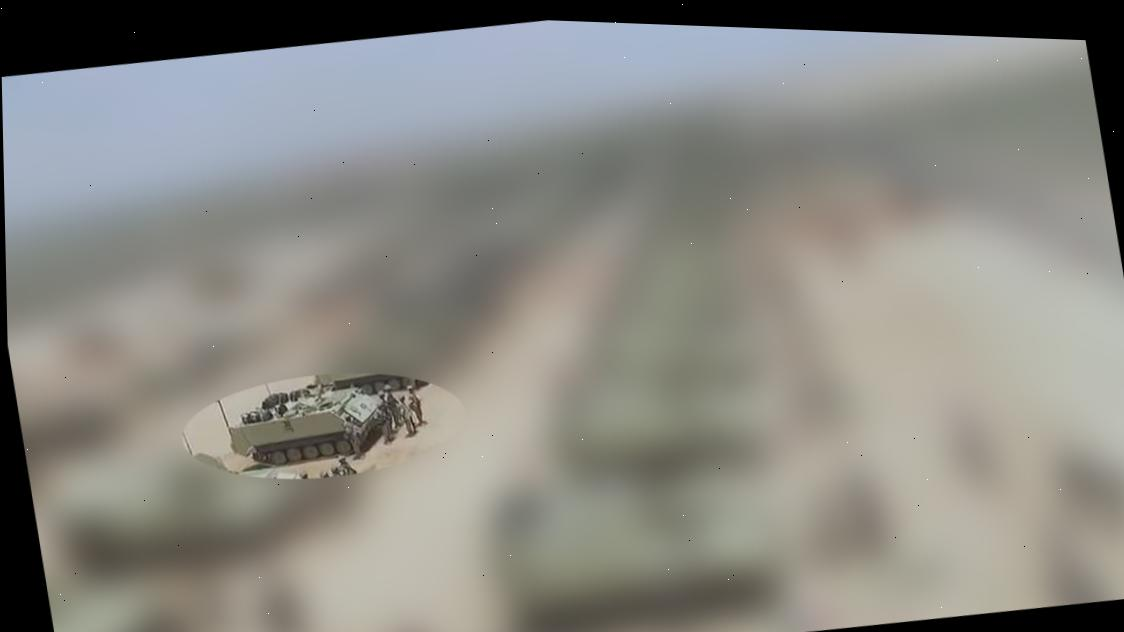armored_car: (217, 360, 404, 478)
